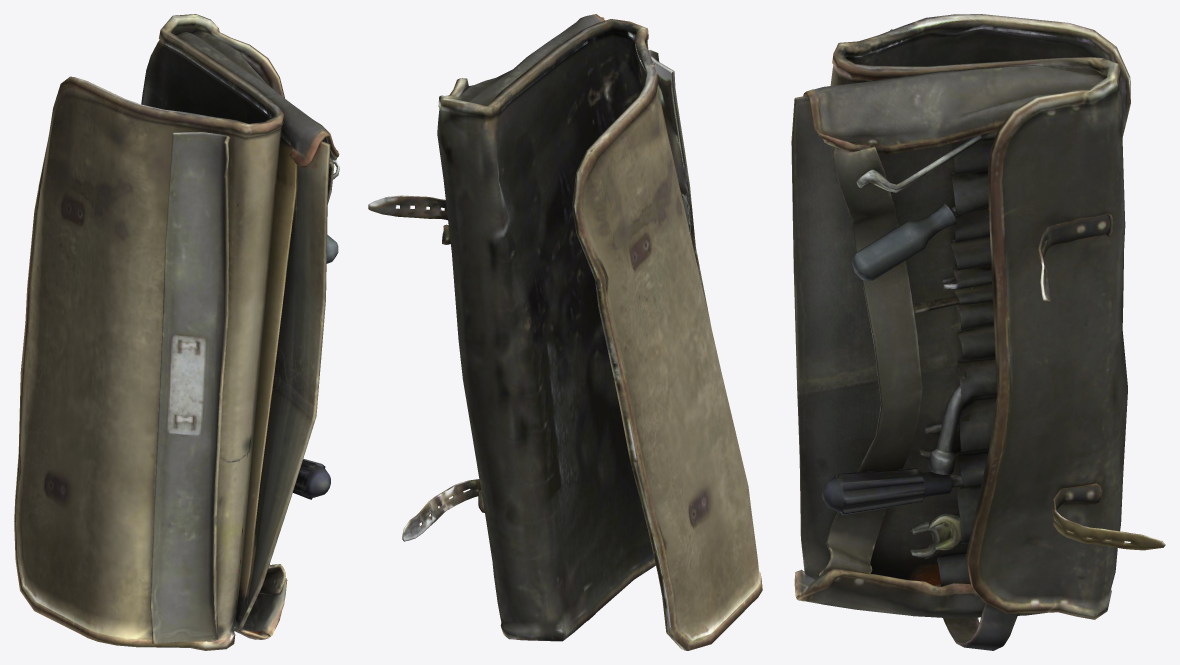
The model's file is PB35_SatchelOpen_SM.obj.
3 renders of one model, left to right at view 1: azimuth 30°, elevation 25°; view 2: azimuth 150°, elevation 25°; view 3: azimuth 270°, elevation 25°, orthographic. The views are drawn at different scales.
Visible parts, largest first — view 1: _SatchelOpen_SM:_SatchelOpen_SM_LivaBochyna; view 2: _SatchelOpen_SM:_SatchelOpen_SM_LivaBochyna; view 3: _SatchelOpen_SM:_SatchelOpen_SM_LivaBochyna.
Part boxes in pixels (box(x1,y1,x2,y2)): _SatchelOpen_SM:_SatchelOpen_SM_LivaBochyna: box(14, 14, 339, 650); _SatchelOpen_SM:_SatchelOpen_SM_LivaBochyna: box(368, 14, 762, 650); _SatchelOpen_SM:_SatchelOpen_SM_LivaBochyna: box(791, 14, 1165, 650).
Size of the model in its own units: 9.32 by 15.42 by 8.66.
